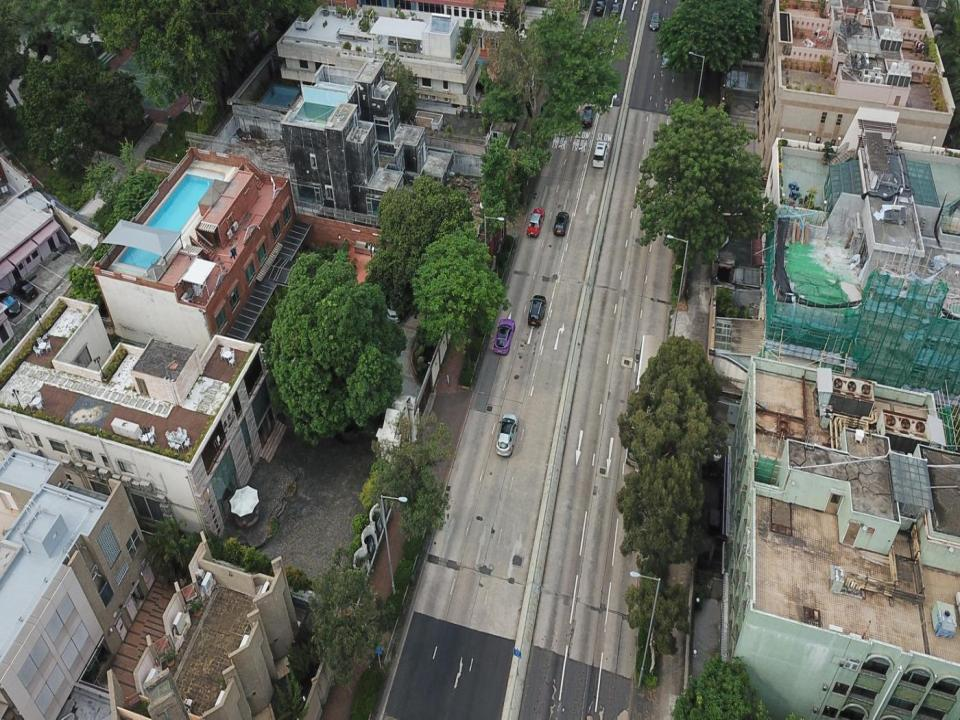car: (496, 413, 518, 455), (493, 319, 515, 354), (528, 294, 546, 327), (527, 208, 545, 236), (553, 211, 570, 238), (581, 105, 594, 128), (648, 9, 661, 32), (610, 3, 620, 21), (595, 0, 604, 16)
van: (592, 140, 606, 167)
